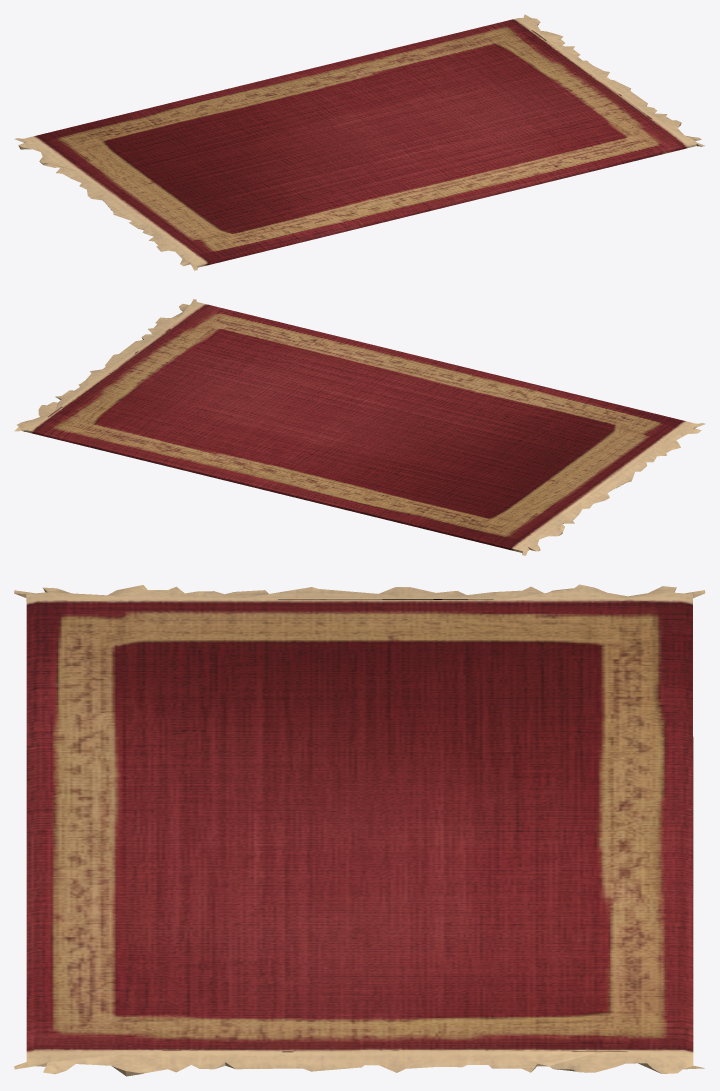
File: rug_lod0.glb
3 views of the same model, one above another, from view 1: azimuth 30°, elevation 25°; view 2: azimuth 150°, elevation 25°; view 3: azimuth 270°, elevation 25° (orthographic). The views are drawn at different scales.
Visible parts, largest first — view 1: low; view 2: low; view 3: low.
Boxes of the visible parts, left/top/right/bottom form: low: left=14, top=14, right=705, bottom=270; low: left=14, top=299, right=705, bottom=555; low: left=14, top=584, right=705, bottom=1076.
Bounding box in the file's own units: 2.46 × 0.0221 × 1.47.
Materials: 1 (1 with a texture image).
